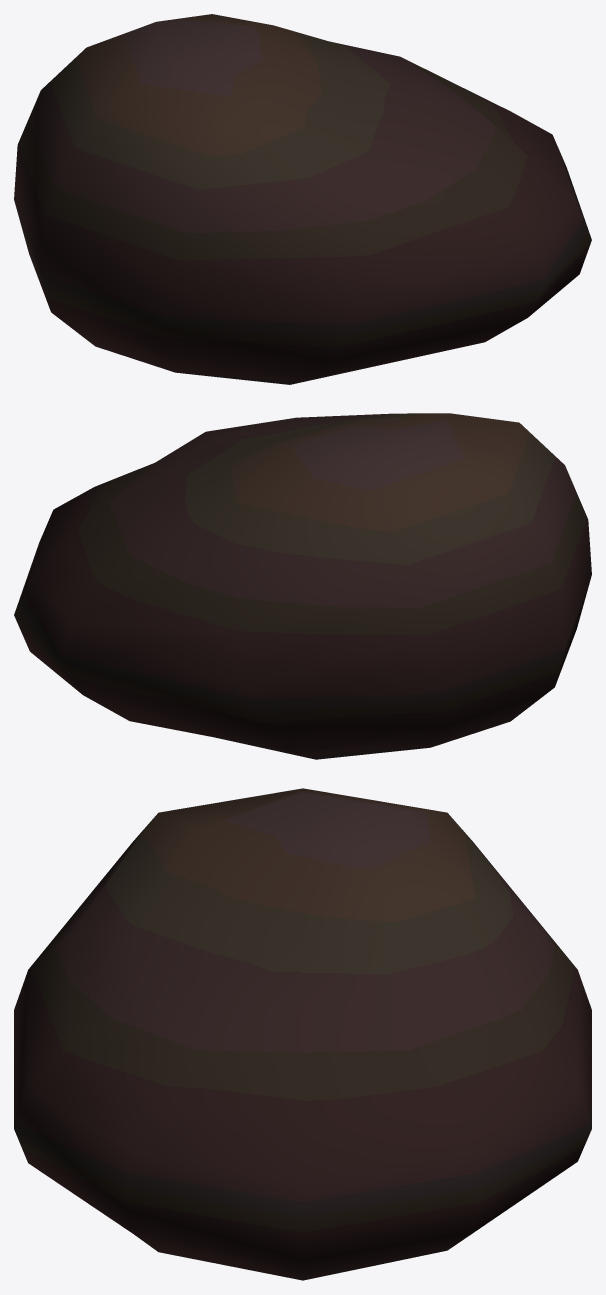
The model's file is SM_Rock_001.fbx.
The picture shows the model from 3 angles, top to bottom: view 1: azimuth 30°, elevation 25°; view 2: azimuth 150°, elevation 25°; view 3: azimuth 270°, elevation 25°; orthographic projection. The views are drawn at different scales.
Parts seen in each view (by area): view 1: SM_Rock_001; view 2: SM_Rock_001; view 3: SM_Rock_001.
Boxes of the visible parts, x1,y1,x2,y2 form: SM_Rock_001: [14, 14, 591, 384]; SM_Rock_001: [14, 413, 591, 759]; SM_Rock_001: [14, 788, 591, 1280].
Size of the model in its own units: 425 by 230 by 365.
